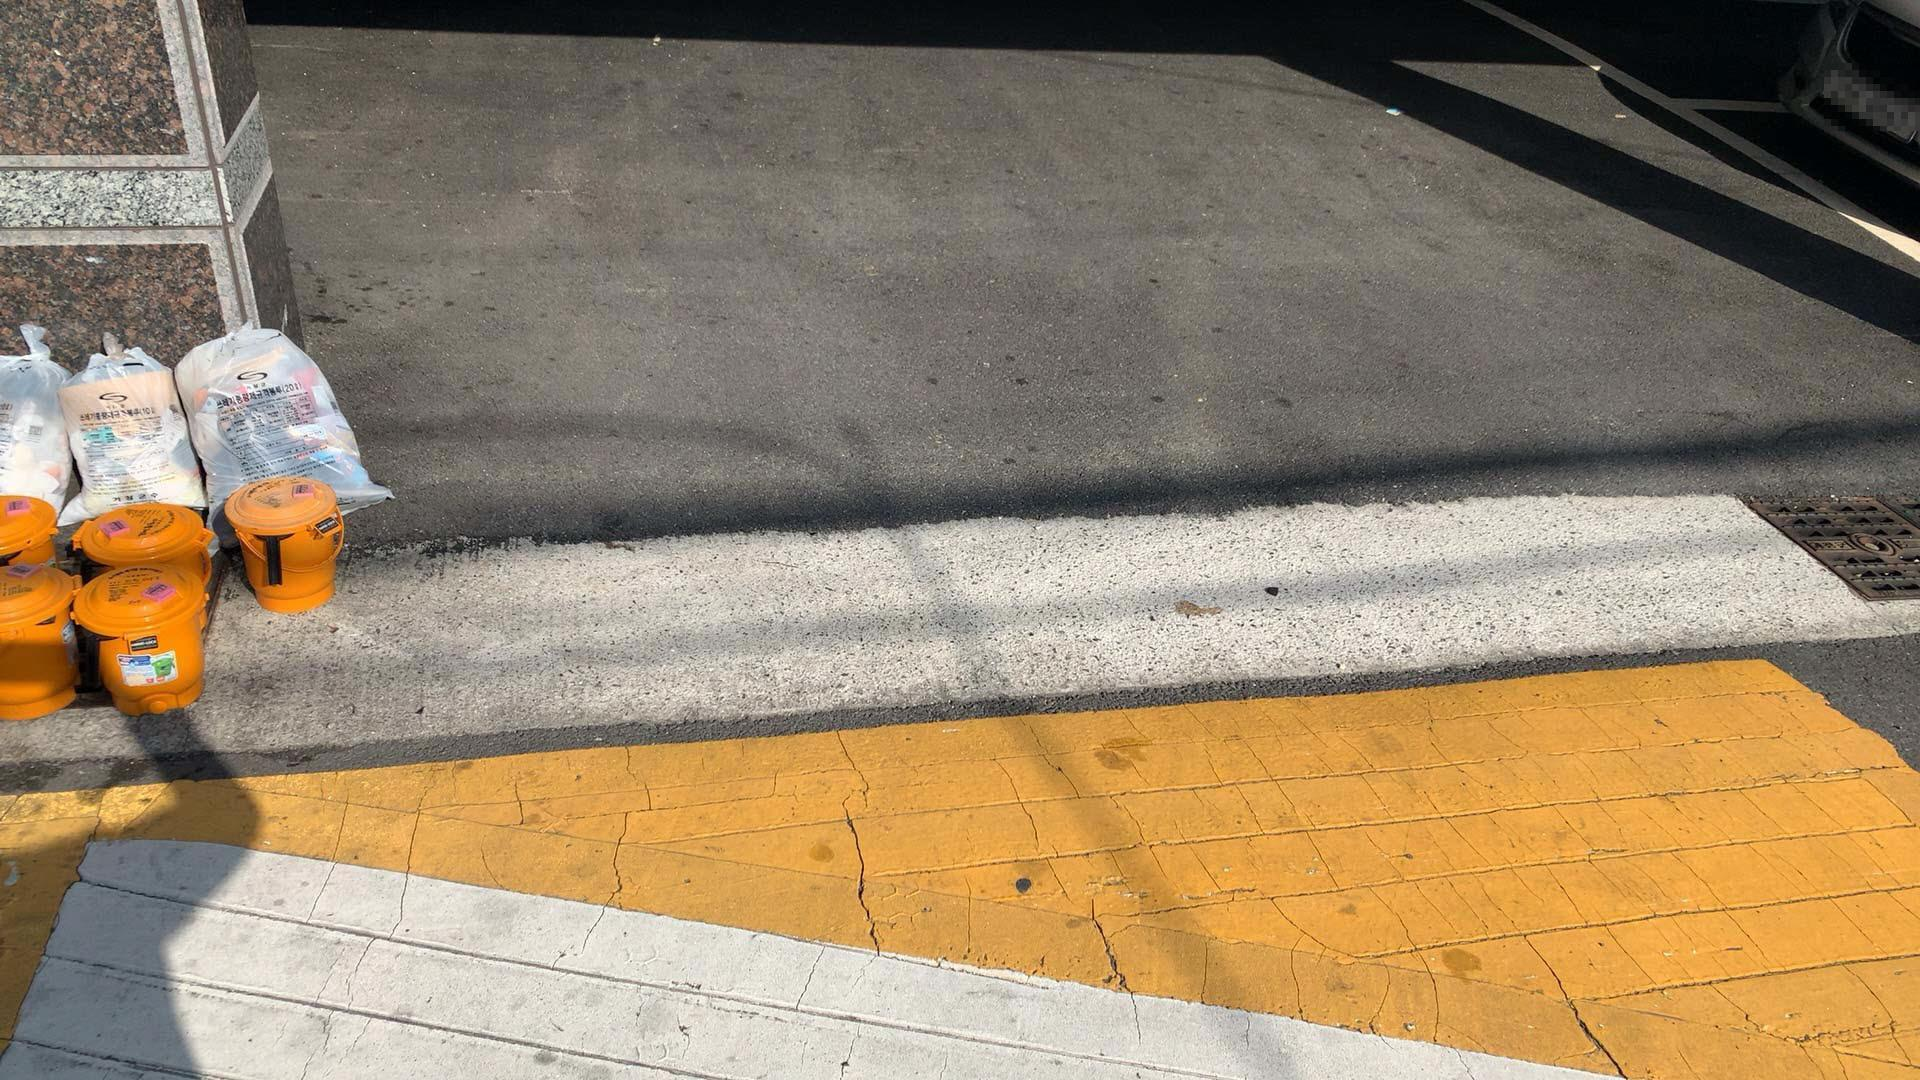white_bag: (163, 305, 399, 550), (42, 328, 228, 542), (0, 313, 87, 552)
